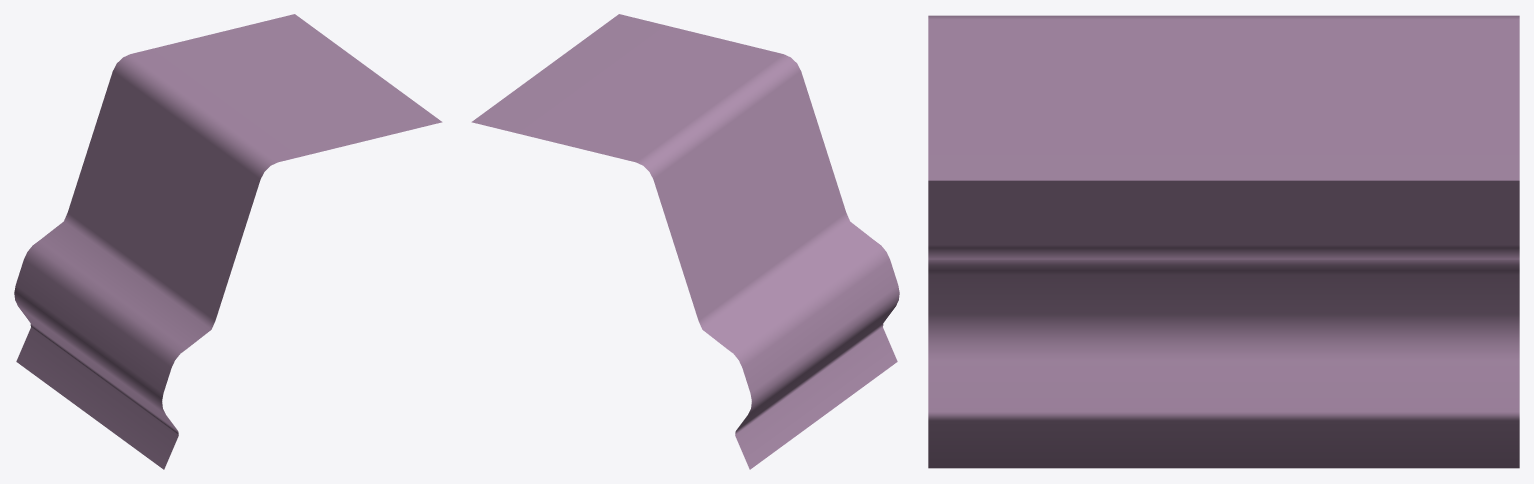
File: Corruptoverlay.fbx
The picture shows the model from 3 angles, left to right: view 1: azimuth 30°, elevation 25°; view 2: azimuth 150°, elevation 25°; view 3: azimuth 270°, elevation 25°; orthographic projection. The views are drawn at different scales.
Parts seen in each view (by area): view 1: pCube102; view 2: pCube102; view 3: pCube102.
Boxes of the visible parts, box(x1,y1,x2,y2) form: pCube102: box(14, 14, 442, 469); pCube102: box(471, 14, 899, 469); pCube102: box(928, 15, 1519, 468).
Size of the model in its own units: 110 by 104 by 100.
